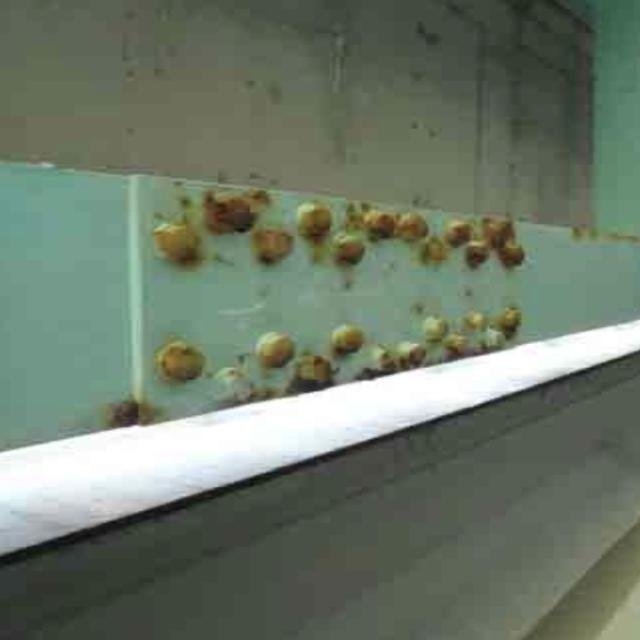corrosion: (136, 144, 543, 373)
